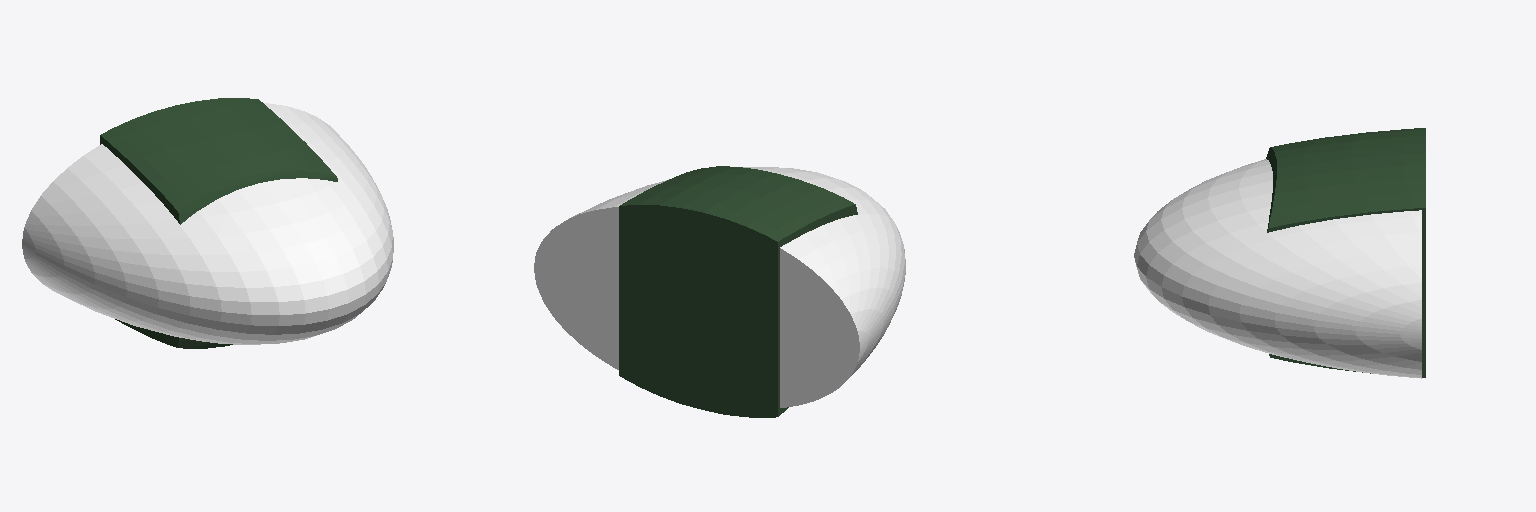
Rendered from onigiri.obj.
3 views of the same model, side by side, from view 1: azimuth 30°, elevation 25°; view 2: azimuth 150°, elevation 25°; view 3: azimuth 270°, elevation 25° (orthographic).
Visible parts, largest first — view 1: obj_0; view 2: obj_0; view 3: obj_0.
Boxes of the visible parts, box(x1,y1,x2,y2) form: obj_0: box(22, 98, 393, 348); obj_0: box(534, 166, 905, 417); obj_0: box(1134, 128, 1425, 378).
Bounding box in the file's own units: 41.08 × 23.87 × 31.95.